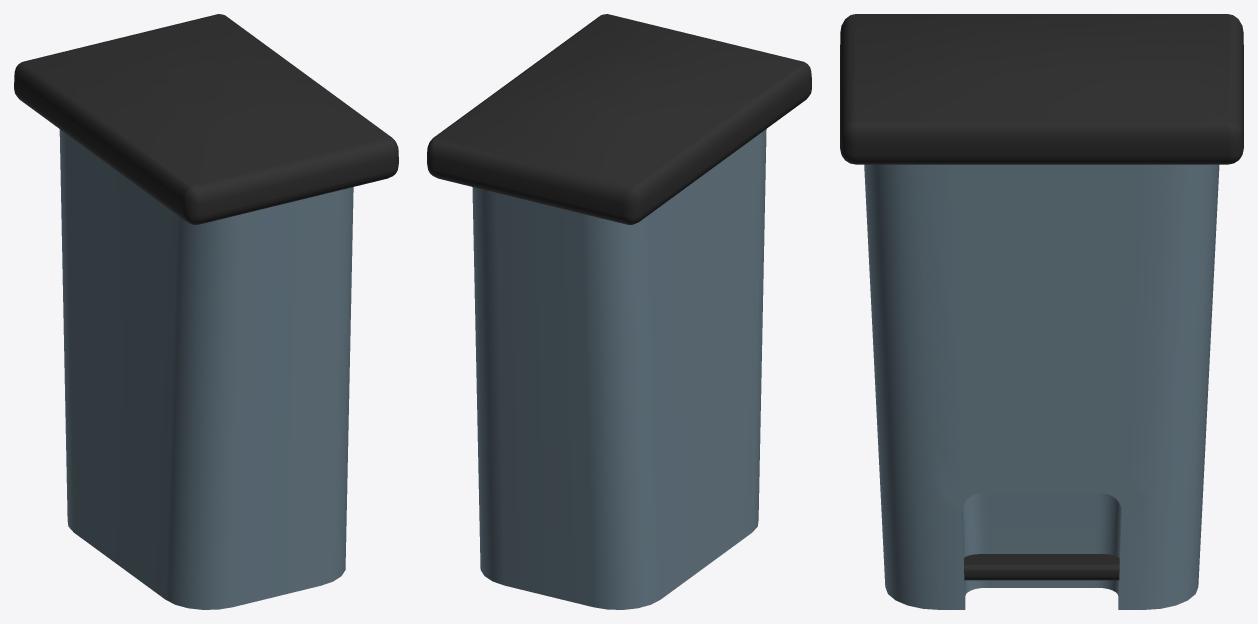
Rendered from Poubelle_2.fbx.
The picture shows the model from 3 angles, left to right: view 1: azimuth 30°, elevation 25°; view 2: azimuth 150°, elevation 25°; view 3: azimuth 270°, elevation 25°; orthographic projection. The views are drawn at different scales.
Visible parts, largest first — view 1: pCube157, pCube159; view 2: pCube157, pCube159; view 3: pCube157, pCube159, pCube163.
Part boxes in pixels (left/top/right/bottom): pCube157: left=59, top=129, right=353, bottom=609; pCube159: left=14, top=14, right=398, bottom=224; pCube157: left=472, top=129, right=766, bottom=609; pCube159: left=427, top=14, right=811, bottom=224; pCube157: left=864, top=164, right=1219, bottom=609; pCube159: left=840, top=14, right=1243, bottom=164; pCube163: left=964, top=554, right=1119, bottom=580.
Size of the model in its own units: 19.28 by 39.81 by 28.3.
